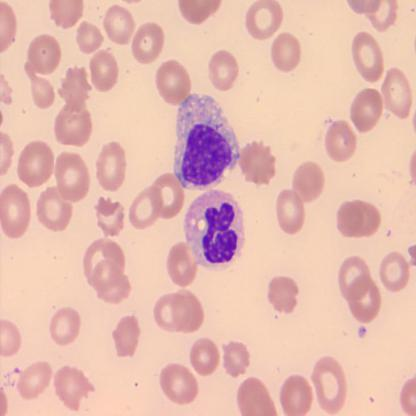Myelocyte: (175, 96, 243, 186), (186, 191, 247, 265)
